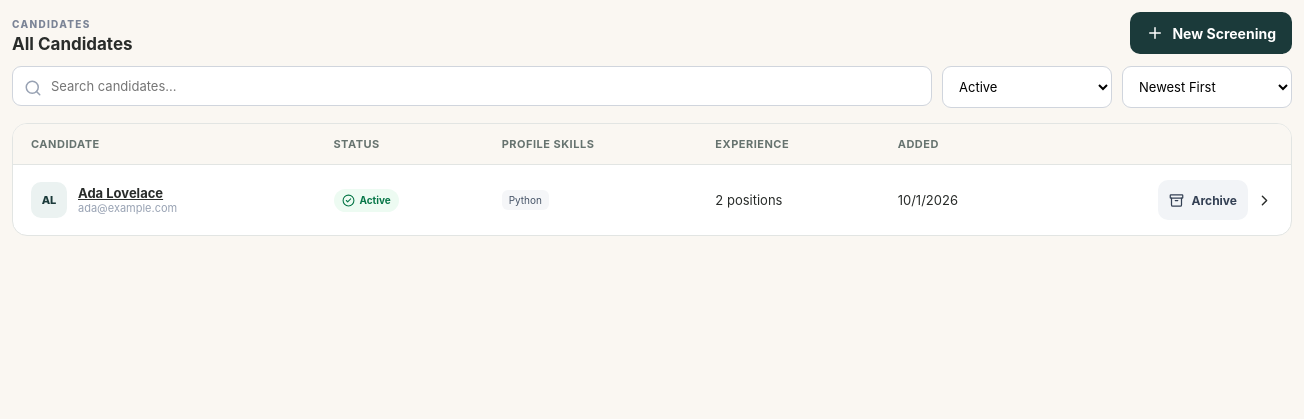
Test: Candidates empty states › keeps filtered-empty distinct and lets the user clear filters
The width and height of the screenshot is (1304, 419).
In the field labelled "Search candidates": (472, 86) [12,66,932,106], type "no matching person"
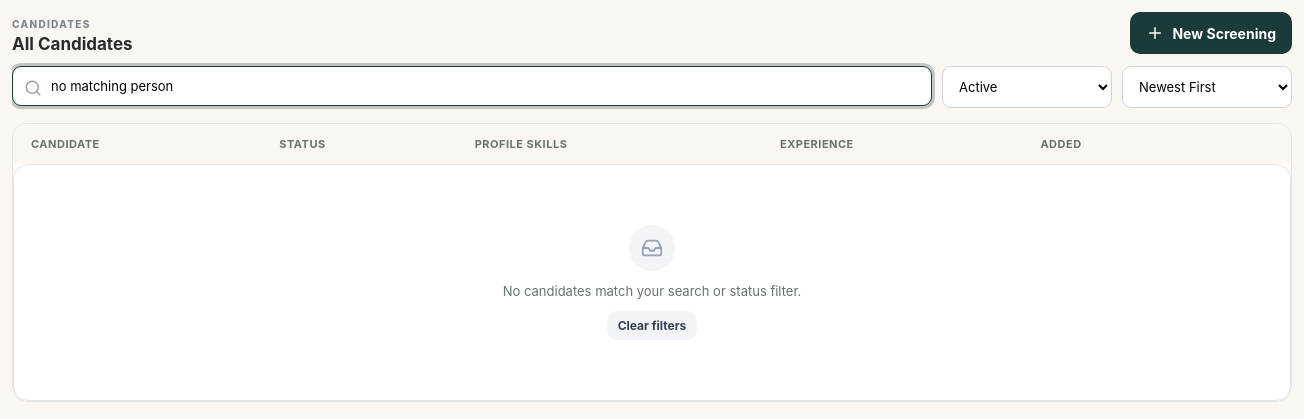
Check: the text "No candidates match your search or status filter." is shown, box [503,283,801,299]
Click the button "Clear filters": (652, 326) [607,311,697,340]
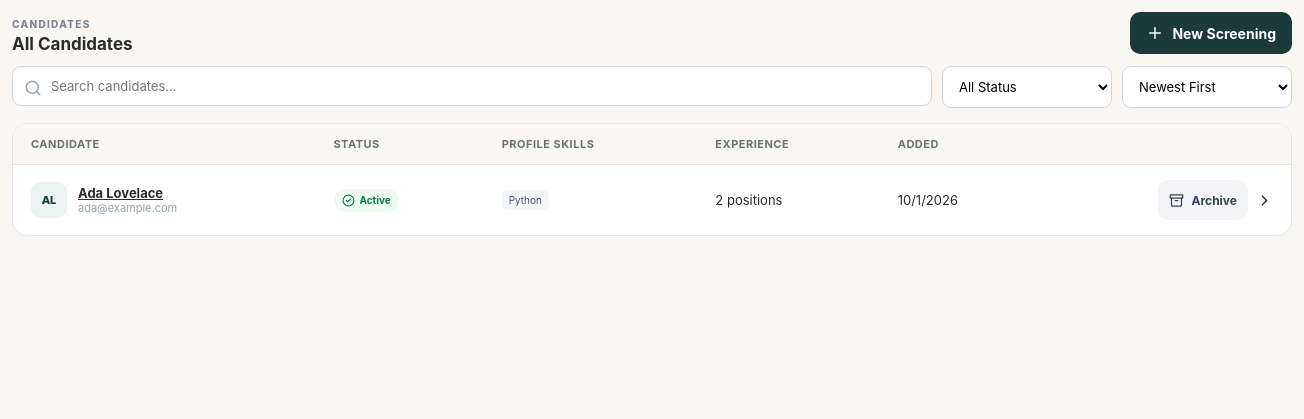
Check: the text "Ada Lovelace" is shown, box [78,185,177,201]
